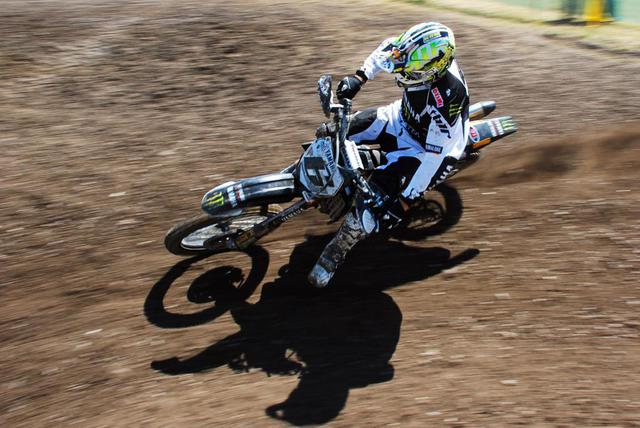helmet: (388, 23, 463, 77)
